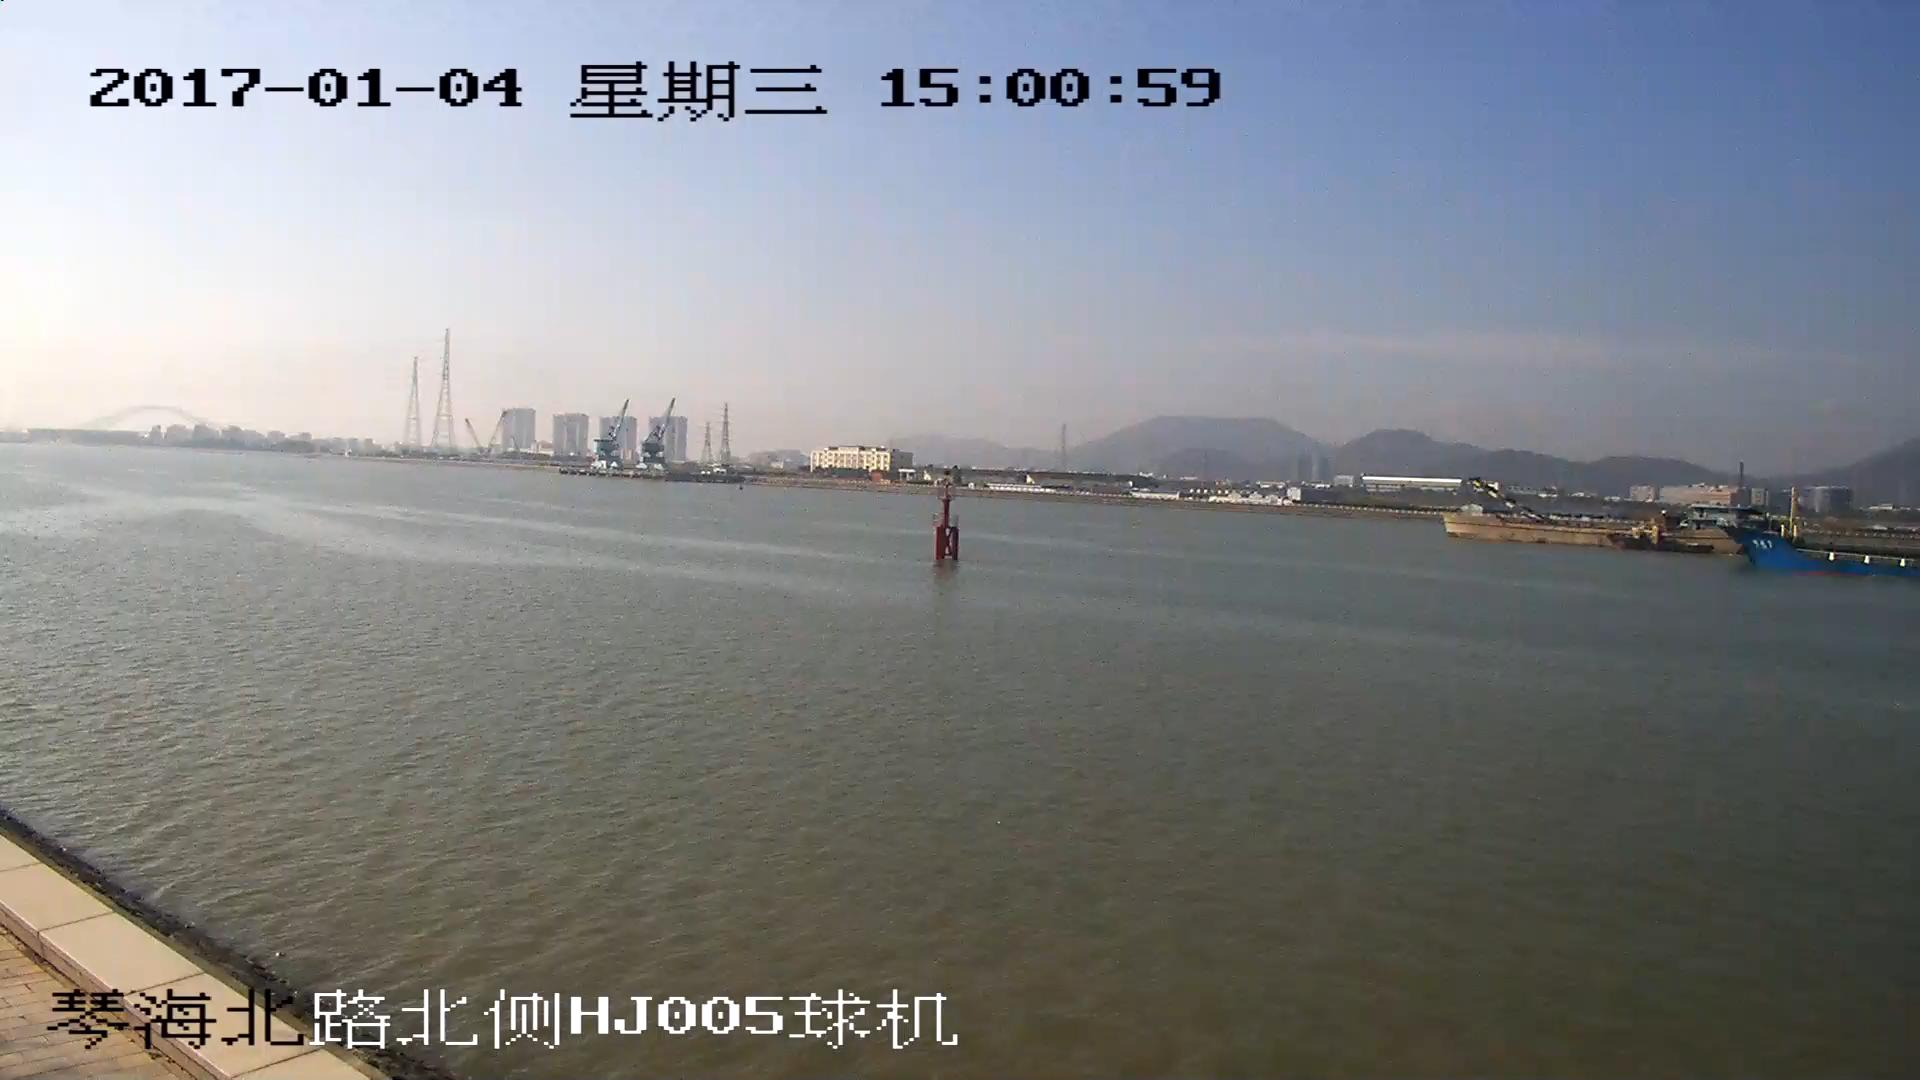bulk cargo carrier: (1436, 476, 1722, 554)
general cargo ship: (1717, 503, 1920, 579)
